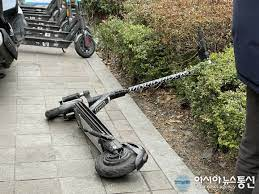fallin_kick: (46, 61, 223, 177)
kick_body: (25, 37, 68, 46), (26, 28, 65, 36), (24, 14, 47, 19)
kick_wheel: (74, 34, 95, 57)
